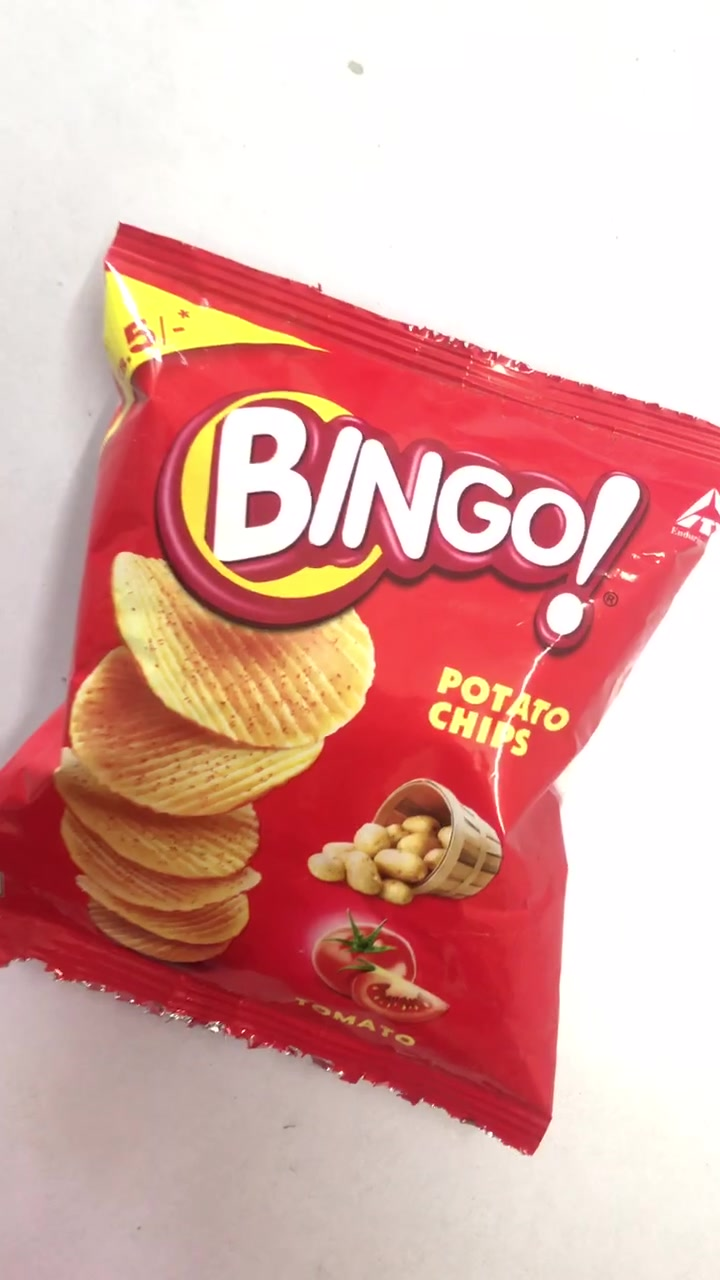Bingo: (8, 218, 720, 1153)
